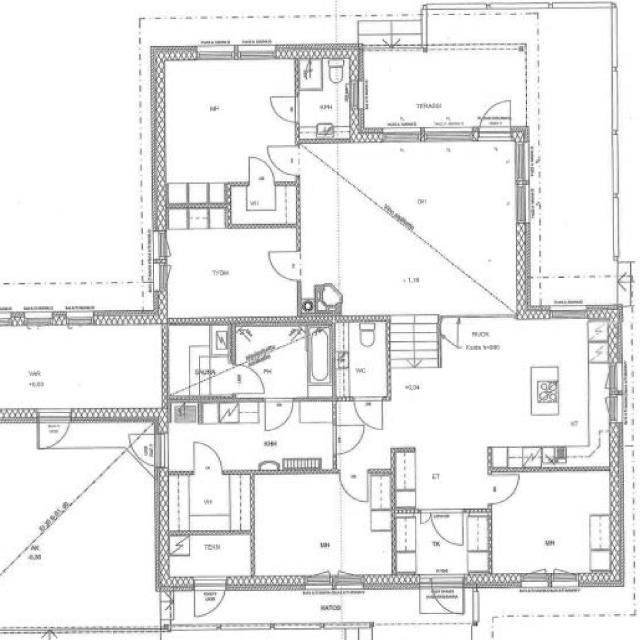door: (478, 94, 511, 142), (122, 434, 168, 467), (432, 575, 463, 622), (194, 575, 225, 622), (38, 408, 69, 454), (431, 508, 463, 546), (267, 145, 300, 176), (487, 474, 520, 504), (332, 425, 365, 455), (194, 440, 222, 474), (354, 397, 382, 431), (265, 398, 293, 430), (231, 365, 263, 393), (269, 252, 300, 280), (340, 470, 367, 502), (72, 352, 102, 379), (271, 97, 300, 123), (249, 156, 273, 185), (420, 508, 430, 524)
